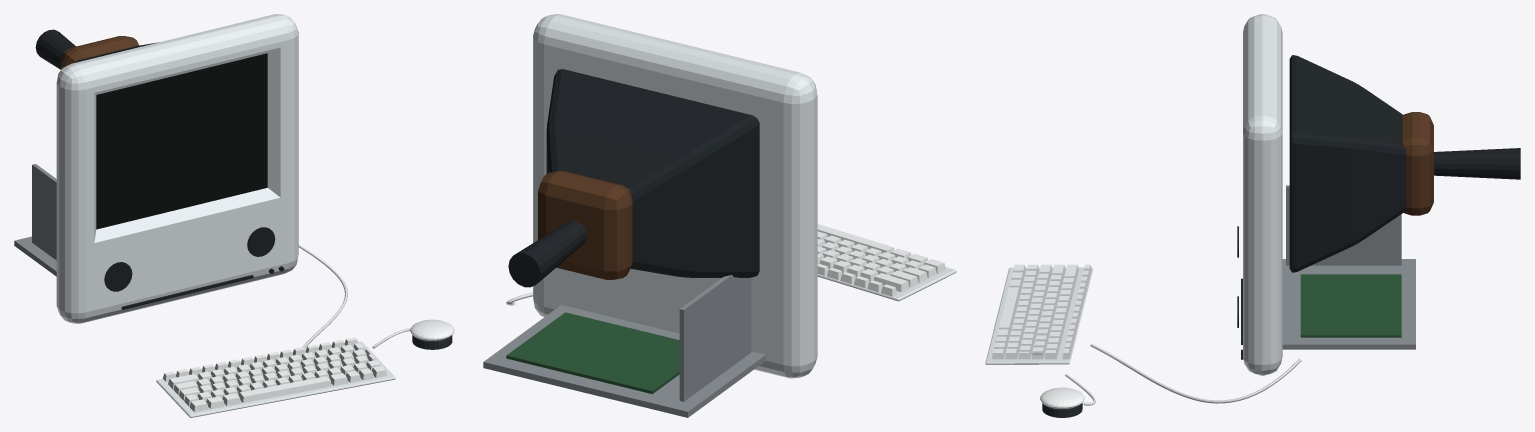
File: computer.glb
3 renders of one model, left to right at view 1: azimuth 30°, elevation 25°; view 2: azimuth 150°, elevation 25°; view 3: azimuth 270°, elevation 25°, orthographic. The views are drawn at different scales.
Visible parts, largest first — view 1: Computer, Screen; view 2: Computer; view 3: Computer.
Part boxes in pixels (bbox=[...]): Computer: bbox=[14, 14, 454, 417]; Screen: bbox=[96, 53, 267, 229]; Computer: bbox=[483, 14, 956, 417]; Computer: bbox=[985, 14, 1520, 417].
Bounding box in the file's own units: 1.79 × 1.56 × 2.83.
